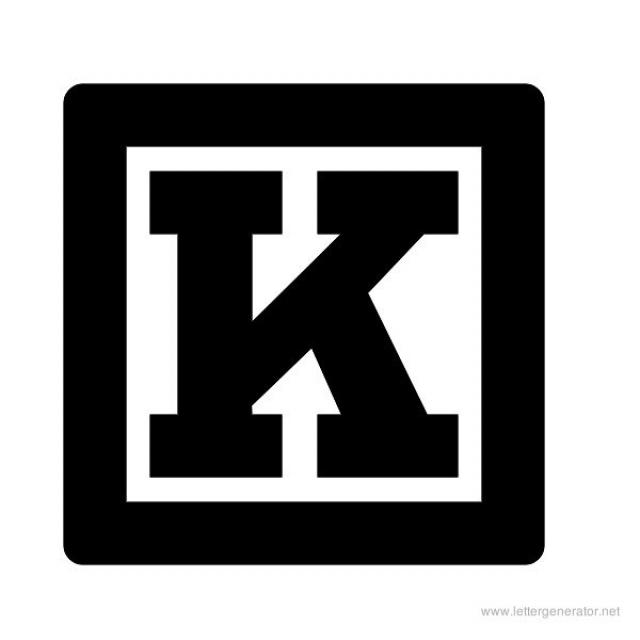K: (138, 159, 471, 494)
